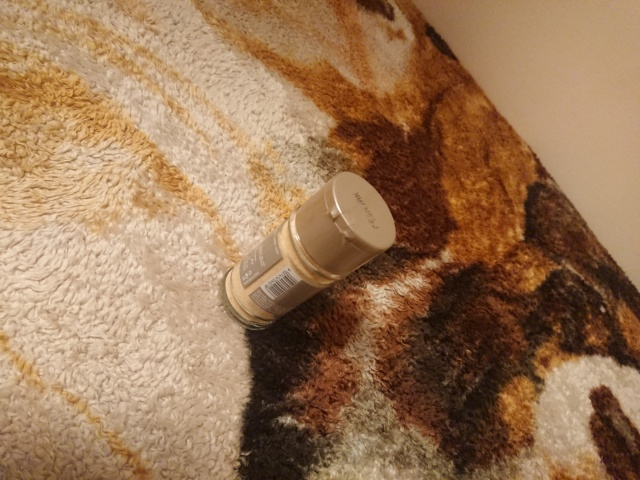Kotanyi Garlic Granules 70g: (216, 168, 399, 335)
